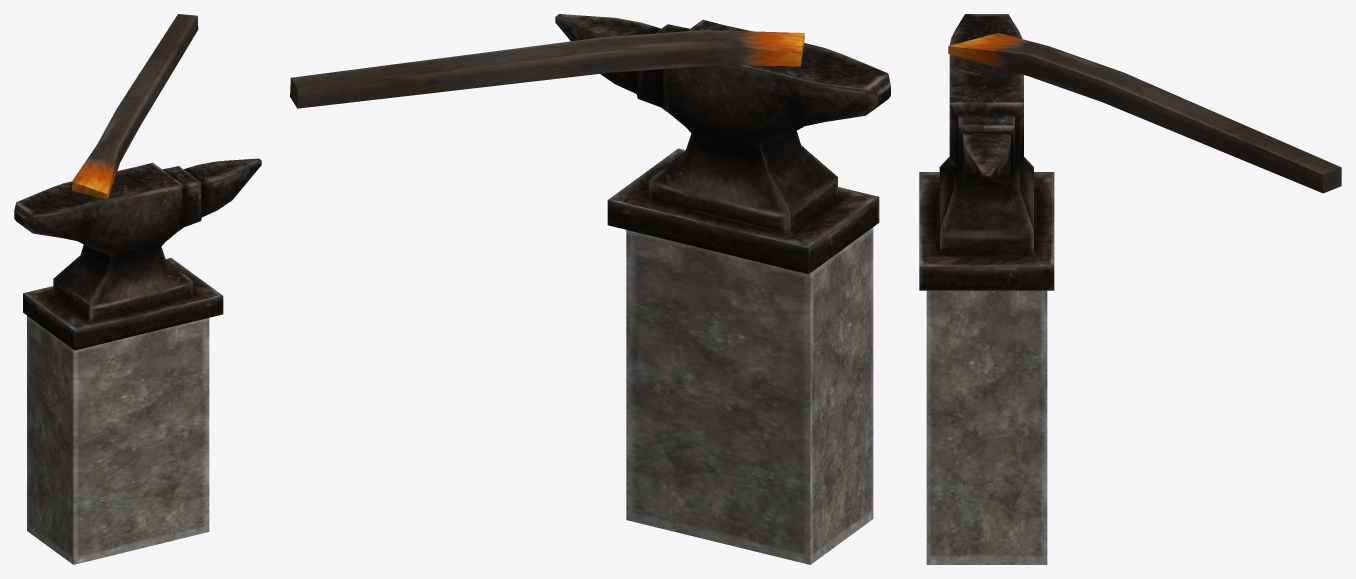
File: shop_bsmith_anvilblock_interactive.fbx
3 views of the same model, side by side, from view 1: azimuth 30°, elevation 25°; view 2: azimuth 150°, elevation 25°; view 3: azimuth 270°, elevation 25° (orthographic). The views are drawn at different scales.
Parts seen in each view (by area): view 1: shop_bsmith_anvil_block, lod_high.001, shop_bsmith_metal_rod; view 2: shop_bsmith_anvil_block, lod_high.001, shop_bsmith_metal_rod; view 3: shop_bsmith_anvil_block, lod_high.001, shop_bsmith_metal_rod.
Part boxes in pixels (<box>): shop_bsmith_anvil_block: <box>27,316,209,564</box>; lod_high.001: <box>14,158,261,350</box>; shop_bsmith_metal_rod: <box>71,14,198,199</box>; shop_bsmith_anvil_block: <box>626,227,873,564</box>; lod_high.001: <box>555,14,890,274</box>; shop_bsmith_metal_rod: <box>290,30,804,108</box>; shop_bsmith_anvil_block: <box>926,290,1047,564</box>; lod_high.001: <box>919,14,1054,290</box>; shop_bsmith_metal_rod: <box>948,32,1341,193</box>.
Bounding box in the file's own units: 241 × 278 × 220.
1 material, 1 textured.
